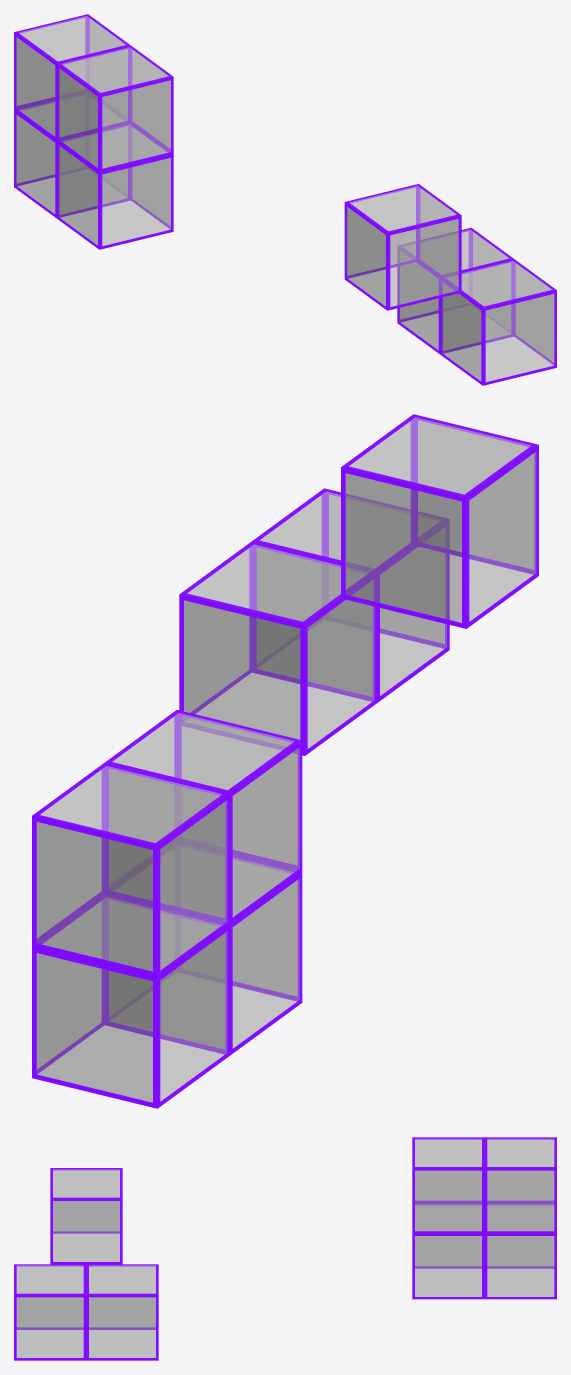
File: EL Wall.fbx
The picture shows the model from 3 angles, top to bottom: view 1: azimuth 30°, elevation 25°; view 2: azimuth 150°, elevation 25°; view 3: azimuth 270°, elevation 25°; orthographic projection. The views are drawn at different scales.
Visible parts, largest first — view 1: Wall.006, Wall.005, Wall.002, Wall.008, Wall.007, Wall.001, Wall.009; view 2: Wall.005, Wall.007, Wall.009, Wall.001, Wall.006, Wall.002, Wall.008; view 3: Wall.001, Wall.002, Wall.005, Wall.006, Wall.007, Wall.008, Wall.009.
Part boxes in pixels (x1,y1,x2,y2): Wall.006: (56, 45, 173, 172); Wall.005: (344, 184, 461, 310); Wall.002: (440, 259, 556, 385); Wall.008: (56, 123, 173, 249); Wall.007: (14, 14, 130, 140); Wall.001: (397, 227, 514, 353); Wall.009: (14, 100, 130, 217); Wall.005: (341, 414, 538, 628); Wall.007: (32, 763, 229, 977); Wall.009: (32, 894, 229, 1108); Wall.001: (179, 541, 377, 755); Wall.006: (104, 710, 302, 923); Wall.002: (252, 488, 449, 702); Wall.008: (104, 855, 302, 1055); Wall.001: (86, 1264, 158, 1360); Wall.002: (14, 1264, 86, 1360); Wall.005: (50, 1168, 122, 1264); Wall.006: (412, 1137, 484, 1233); Wall.007: (484, 1137, 556, 1233); Wall.008: (412, 1203, 484, 1299); Wall.009: (484, 1203, 556, 1299).
Bounding box in the file's own units: 600 × 400 × 1500.
